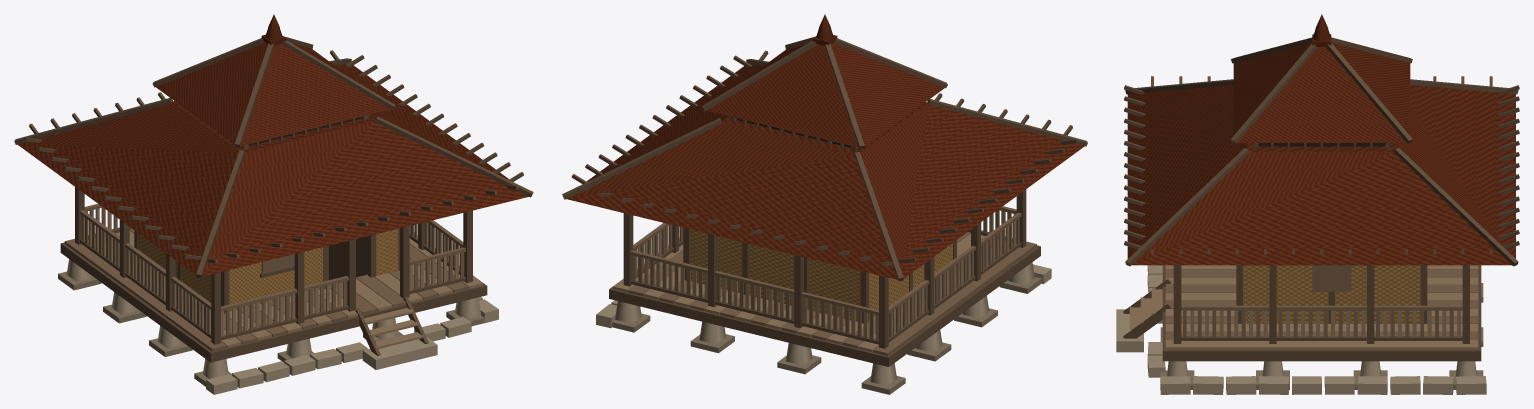
Rendered from 1.Rumah_Tradisional_Banten_1888_LowPoly.glb.
The picture shows the model from 3 angles, left to right: view 1: azimuth 30°, elevation 25°; view 2: azimuth 150°, elevation 25°; view 3: azimuth 270°, elevation 25°; orthographic projection. The views are drawn at different scales.
Parts seen in each view (by area): view 1: Lower_Roof_Tier, Upper_Roof_Tier, Raised_Timber_Platform, Veranda_Structure, Multi_Tier_Roof, Inner_Bamboo_Core, Stone_Foundations, Front_Stairs, Veranda_Post_1, Veranda_Post_0, Veranda_Post_3, Veranda_Post_2 (+1 smaller); view 2: Lower_Roof_Tier, Upper_Roof_Tier, Veranda_Structure, Raised_Timber_Platform, Multi_Tier_Roof, Inner_Bamboo_Core, Stone_Foundations, Veranda_Post_8, Veranda_Post_5, Veranda_Post_6, Veranda_Post_7, Veranda_Post_9 (+5 smaller); view 3: Lower_Roof_Tier, Raised_Timber_Platform, Upper_Roof_Tier, Multi_Tier_Roof, Inner_Bamboo_Core, Stone_Foundations, Veranda_Structure, Front_Stairs, Veranda_Post_4, Veranda_Post_8, Veranda_Post_11, Veranda_Post_12 (+1 smaller).
Boxes of the visible parts, x1,y1,x2,y2 form: Lower_Roof_Tier: [18, 64, 528, 277]; Upper_Roof_Tier: [156, 42, 393, 146]; Raised_Timber_Platform: [60, 229, 487, 362]; Veranda_Structure: [79, 204, 465, 340]; Multi_Tier_Roof: [14, 36, 533, 277]; Inner_Bamboo_Core: [134, 228, 399, 313]; Stone_Foundations: [58, 271, 498, 394]; Front_Stairs: [355, 297, 437, 369]; Veranda_Post_1: [294, 252, 304, 324]; Veranda_Post_0: [211, 272, 220, 344]; Veranda_Post_3: [400, 226, 409, 298]; Veranda_Post_2: [346, 239, 355, 311]; Lower_Roof_Tier: [563, 64, 1084, 279]; Upper_Roof_Tier: [707, 43, 944, 148]; Veranda_Structure: [630, 206, 1021, 344]; Raised_Timber_Platform: [609, 232, 1040, 366]; Multi_Tier_Roof: [562, 36, 1087, 281]; Inner_Bamboo_Core: [683, 227, 956, 323]; Stone_Foundations: [596, 264, 1051, 394]; Veranda_Post_8: [623, 213, 633, 286]; Veranda_Post_5: [879, 275, 888, 348]; Veranda_Post_6: [794, 255, 803, 328]; Veranda_Post_7: [708, 233, 717, 306]; Veranda_Post_9: [924, 257, 934, 315]; Lower_Roof_Tier: [1127, 85, 1515, 265]; Raised_Timber_Platform: [1162, 265, 1481, 361]; Upper_Roof_Tier: [1233, 42, 1410, 142]; Multi_Tier_Roof: [1124, 37, 1519, 266]; Inner_Bamboo_Core: [1236, 265, 1427, 323]; Stone_Foundations: [1147, 265, 1486, 394]; Veranda_Structure: [1181, 305, 1462, 340]; Front_Stairs: [1116, 279, 1171, 352]; Veranda_Post_4: [1173, 265, 1181, 343]; Veranda_Post_8: [1462, 265, 1469, 343]; Veranda_Post_11: [1367, 265, 1374, 343]; Veranda_Post_12: [1269, 265, 1276, 343].
Bounding box in the file's own units: 8.35 × 6.73 × 8.1.
8 materials, 2 textured.
